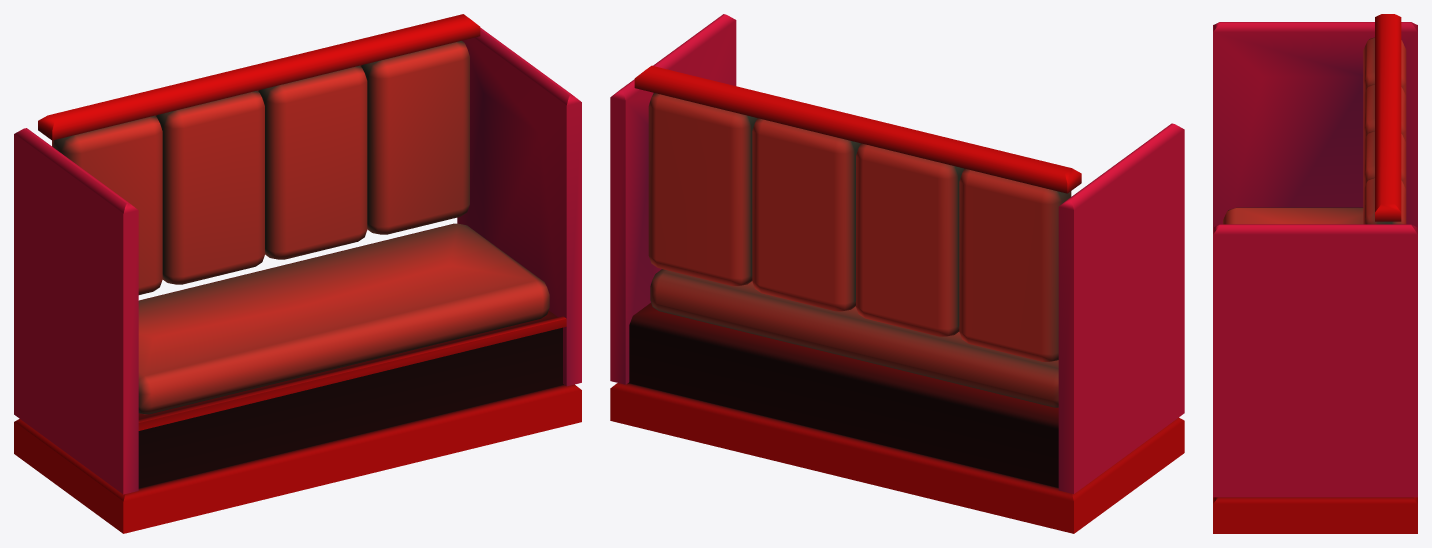
The model's file is CI_Cafe_BoothBench.glb.
The picture shows the model from 3 angles, left to right: view 1: azimuth 30°, elevation 25°; view 2: azimuth 150°, elevation 25°; view 3: azimuth 270°, elevation 25°; orthographic projection. The views are drawn at different scales.
Visible parts, largest first — view 1: CI_Cafe_BoothBench; view 2: CI_Cafe_BoothBench; view 3: CI_Cafe_BoothBench.
Part boxes in pixels (x1,y1,x2,y2): CI_Cafe_BoothBench: [14, 14, 581, 533]; CI_Cafe_BoothBench: [610, 14, 1184, 533]; CI_Cafe_BoothBench: [1213, 14, 1417, 533].
Size of the model in its own units: 1.5 by 1.07 by 0.62.
